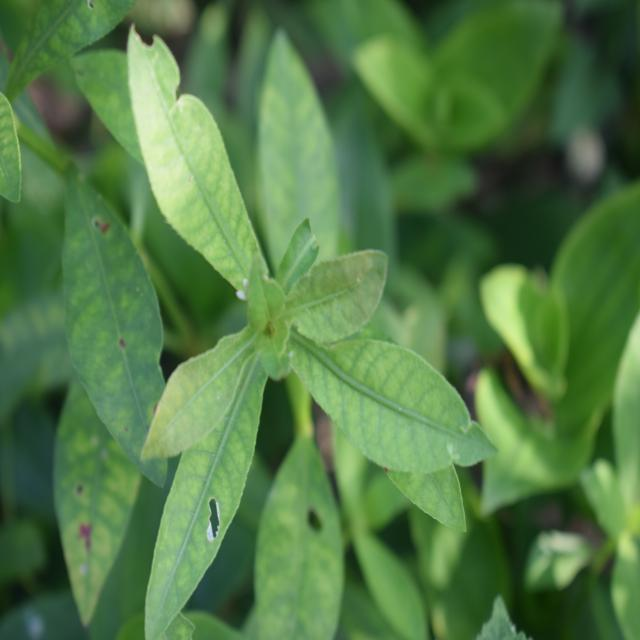Alligatorweed: (130, 34, 472, 604)
